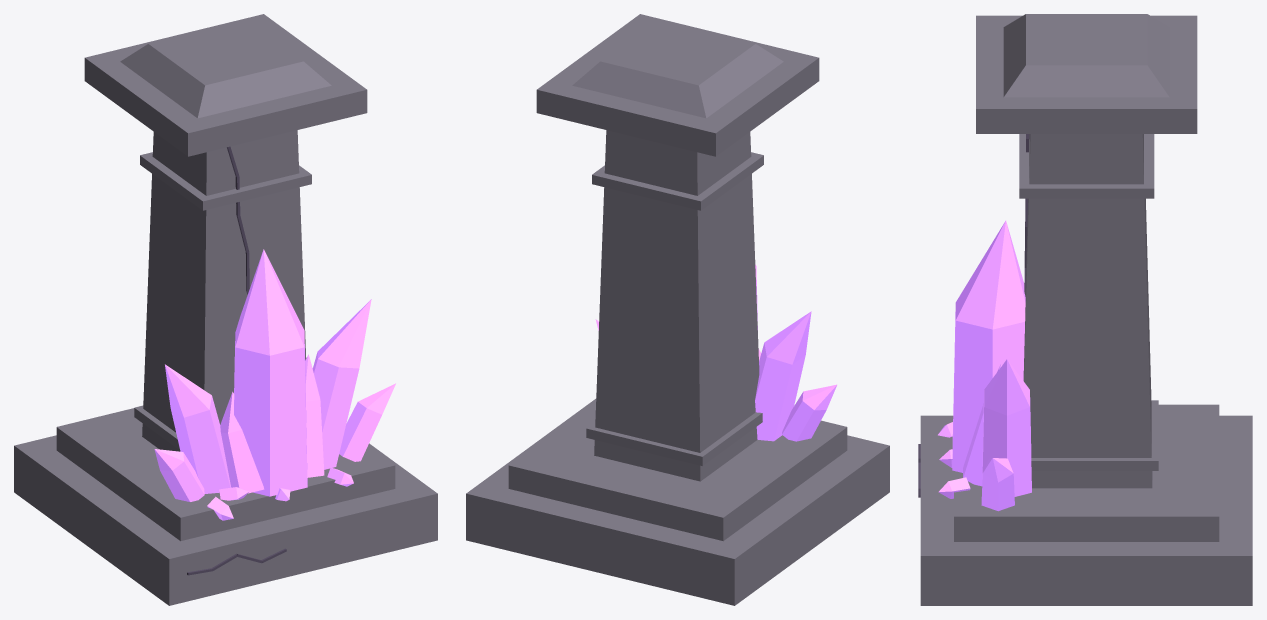
Rendered from AnchorMonument.glb.
3 renders of one model, left to right at view 1: azimuth 30°, elevation 25°; view 2: azimuth 150°, elevation 25°; view 3: azimuth 270°, elevation 25°, orthographic. The views are drawn at different scales.
Parts seen in each view (by area): view 1: pillar, plinth, plinth-step, cap, signal, cap-top, signal-shard-1, signal-shard-0, pillar-band (×2), signal-shard-2, signal-shard-6, signal-shard-3 (+1 smaller); view 2: pillar, plinth, plinth-step, cap, cap-top, pillar-band (×2), signal-shard-0, signal-shard-5; view 3: pillar, plinth, plinth-step, cap-top, cap, signal, pillar-band (×2), signal-shard-1, signal-shard-6, signal-shard-3.
Part boxes in pixels (left/top/right/bottom): pillar: left=142, top=130, right=306, bottom=451; plinth: left=14, top=435, right=437, bottom=605; plinth-step: left=56, top=408, right=395, bottom=541; cap: left=84, top=14, right=367, bottom=156; signal: left=234, top=249, right=307, bottom=496; cap-top: left=120, top=20, right=331, bottom=118; signal-shard-1: left=312, top=299, right=371, bottom=469; signal-shard-0: left=165, top=364, right=231, bottom=493; pillar-band (×2): left=134, top=152, right=311, bottom=450; signal-shard-2: left=220, top=391, right=264, bottom=493; signal-shard-6: left=339, top=383, right=395, bottom=461; signal-shard-3: left=305, top=354, right=324, bottom=477; pillar: left=594, top=130, right=759, bottom=481; plinth: left=466, top=398, right=889, bottom=605; plinth-step: left=508, top=401, right=847, bottom=541; cap: left=536, top=14, right=819, bottom=156; cap-top: left=572, top=20, right=783, bottom=118; pillar-band (×2): left=586, top=152, right=763, bottom=465; signal-shard-0: left=755, top=311, right=811, bottom=441; signal-shard-5: left=782, top=384, right=836, bottom=441; pillar: left=1023, top=134, right=1152, bottom=488; plinth: left=920, top=415, right=1252, bottom=605; plinth-step: left=954, top=404, right=1219, bottom=541; cap-top: left=1003, top=14, right=1169, bottom=97; cap: left=976, top=15, right=1197, bottom=133; signal: left=952, top=220, right=1025, bottom=472; pillar-band (×2): left=1019, top=134, right=1158, bottom=470; signal-shard-1: left=982, top=359, right=1031, bottom=496; signal-shard-6: left=981, top=458, right=1014, bottom=511; signal-shard-3: left=963, top=364, right=1001, bottom=486.
Size of the model in its own units: 3 by 4.95 by 3.02.
